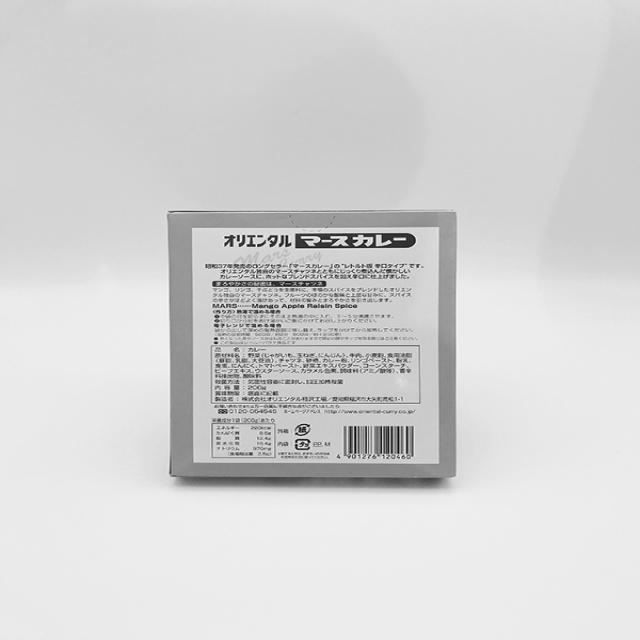Nutrition Label: (211, 345, 423, 404)
